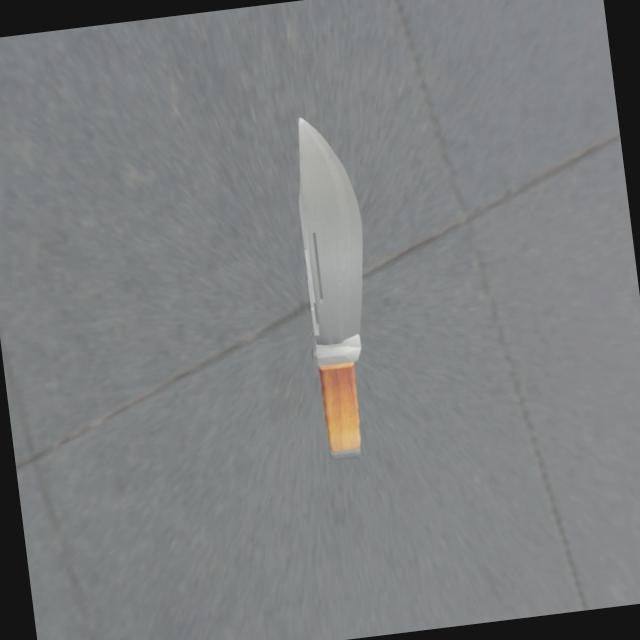knife: (310, 339, 372, 480)
